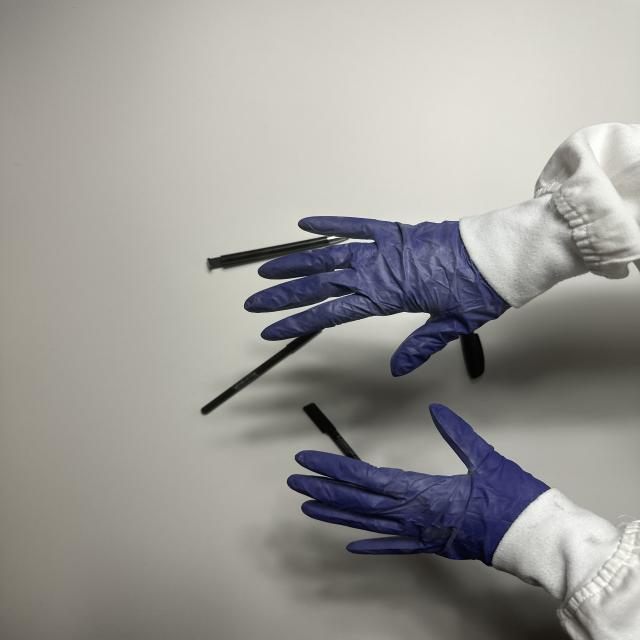gloves_contaminated: (288, 404, 549, 565), (245, 217, 509, 376)
